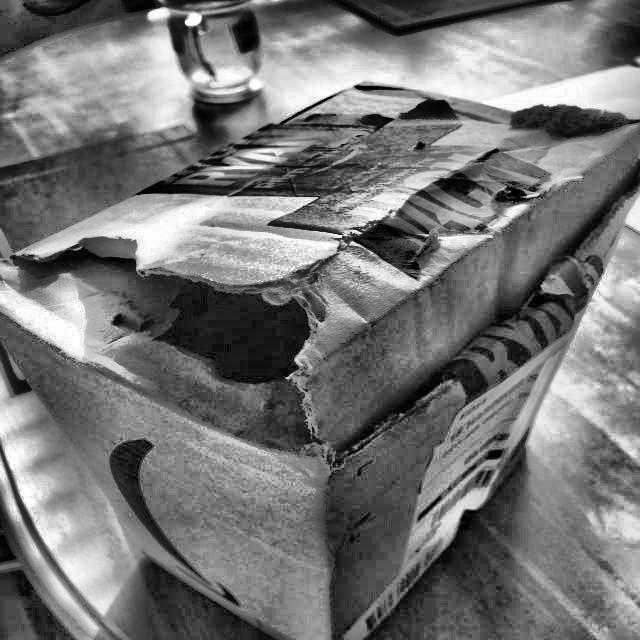box: (0, 61, 639, 639)
hole: (64, 240, 334, 428)
